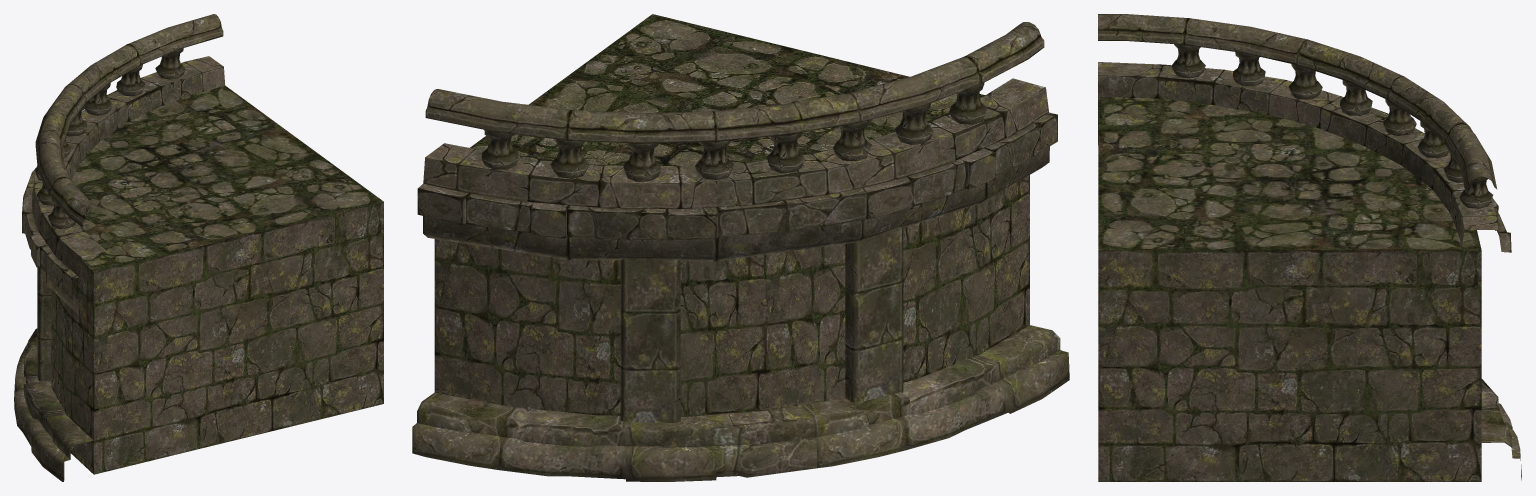
Rendered from Base_Rounded_Preset_07_c-transformed.glb.
3 renders of one model, left to right at view 1: azimuth 30°, elevation 25°; view 2: azimuth 150°, elevation 25°; view 3: azimuth 270°, elevation 25°, orthographic. The views are drawn at different scales.
Parts seen in each view (by area): view 1: default; view 2: default; view 3: default.
Part boxes in pixels (box(x1,y1,x2,y2)): default: box(14, 14, 383, 481); default: box(412, 14, 1069, 481); default: box(1098, 14, 1521, 481).
Size of the model in its own units: 6.64 by 5.27 by 6.63.
4 materials, 4 textured.
